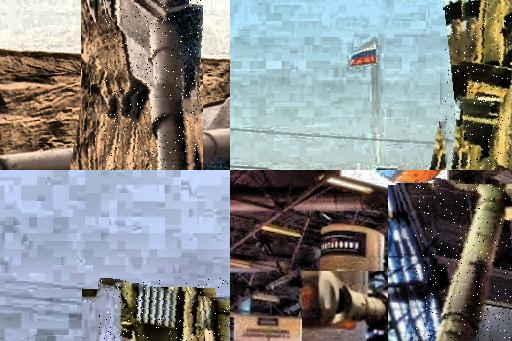tanks: (106, 1, 204, 171), (432, 181, 512, 341), (452, 1, 512, 171), (100, 280, 230, 341)
